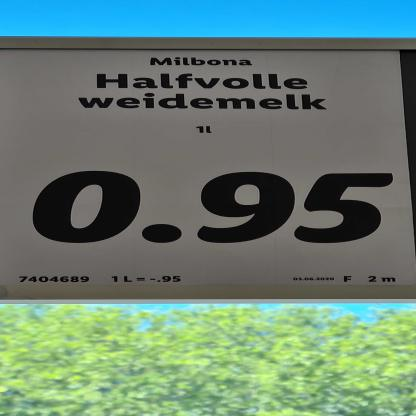prtg: (1, 49, 415, 287)
